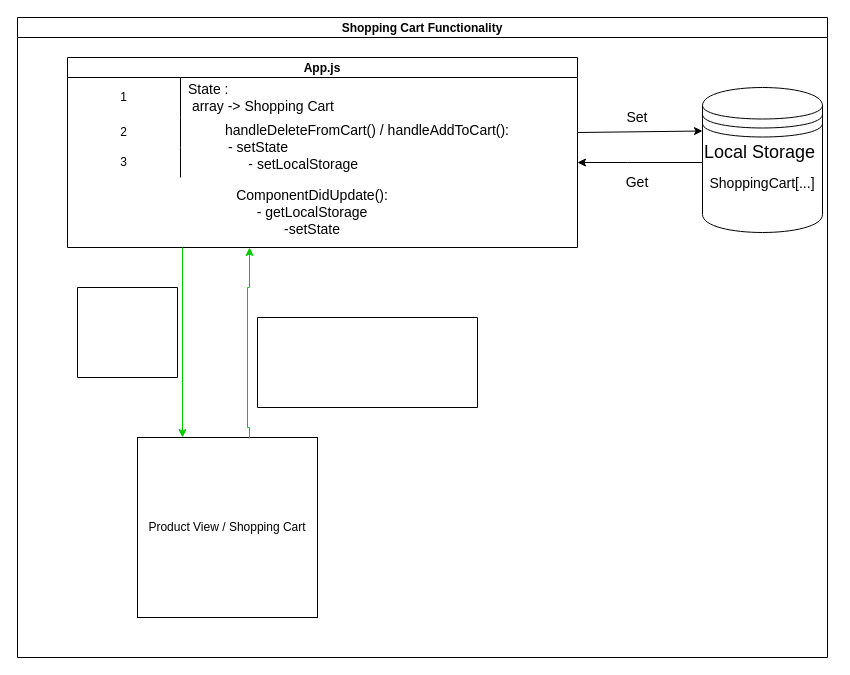
This 850x675 diagram has some shape labels left out. The shapes that lost their labels are listed below. From the top down, each one's centre as x and y in pixels, then its label:
At (127,332): "ref to handleDelete() handleAdd() state: cart[...]".
At (367,362): "+Add/-Delete (productId, ..., productName)".
